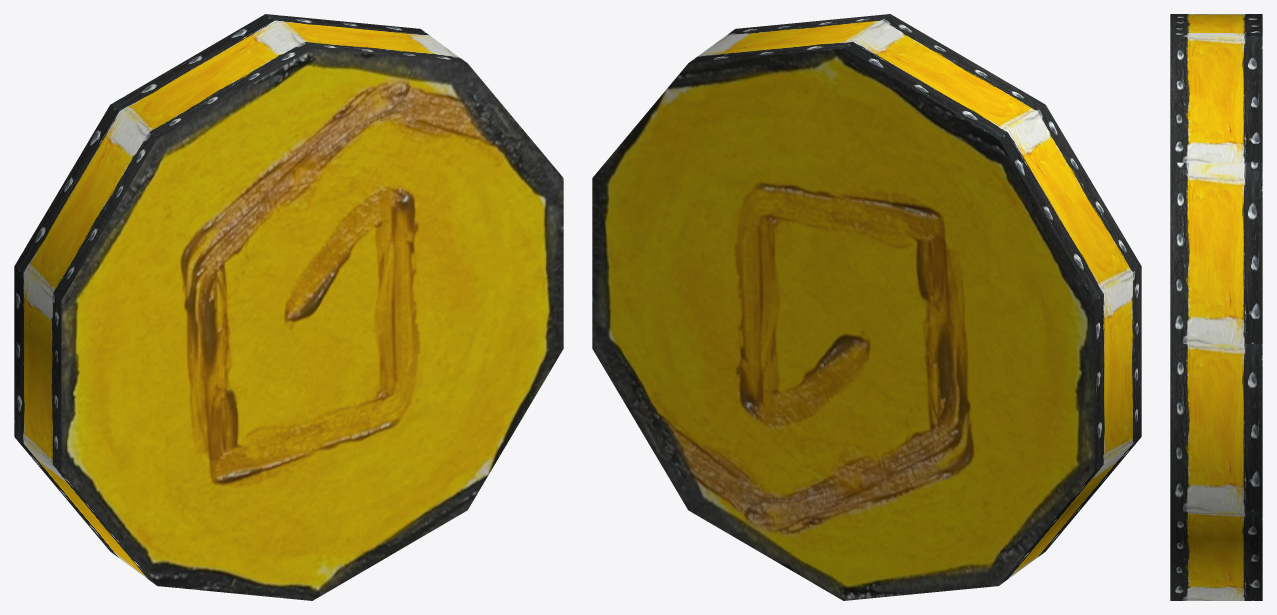
The model's file is Yellow Film.fbx.
The picture shows the model from 3 angles, left to right: view 1: azimuth 30°, elevation 25°; view 2: azimuth 150°, elevation 25°; view 3: azimuth 270°, elevation 25°; orthographic projection.
Parts seen in each view (by area): view 1: pCylinder1; view 2: pCylinder1; view 3: pCylinder1.
Part boxes in pixels (x1,y1,x2,y2): pCylinder1: (14, 14, 563, 600); pCylinder1: (592, 14, 1141, 600); pCylinder1: (1170, 14, 1262, 600).
Bounding box in the file's own units: 35.46 × 37.28 × 5.74.
